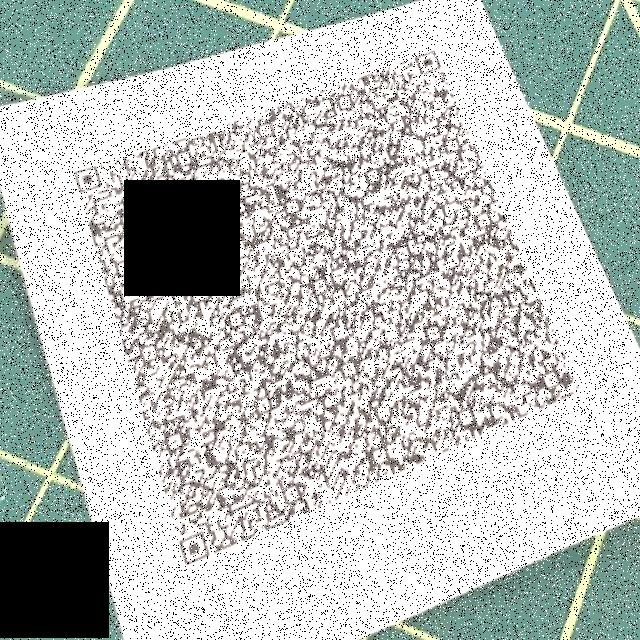QR_CODE: (55, 15, 603, 575)
